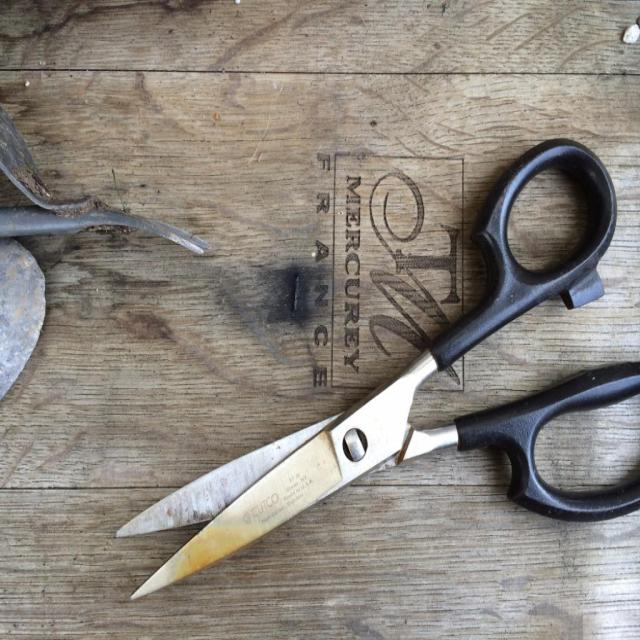scissors: (115, 137, 637, 601)
